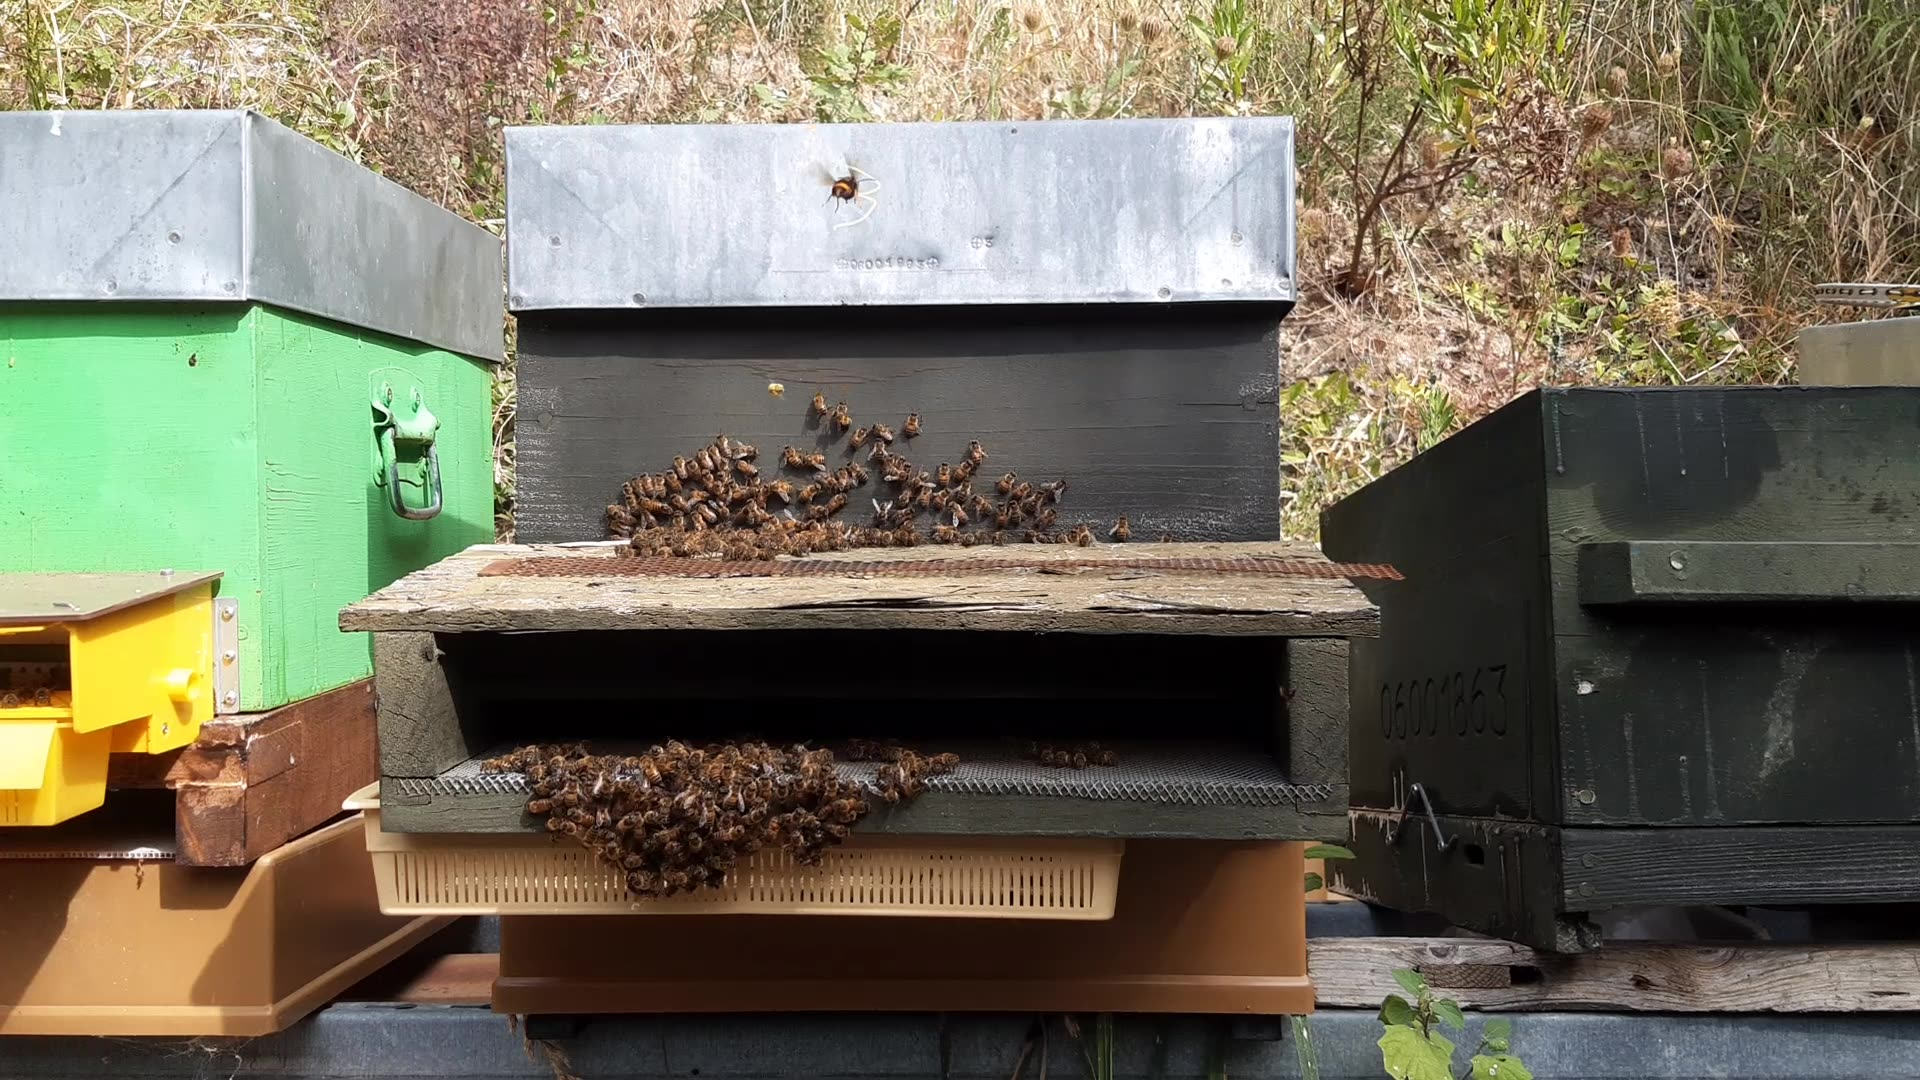bee: (647, 822, 731, 898), (820, 491, 920, 549), (522, 796, 588, 866), (489, 742, 575, 795), (616, 731, 715, 775), (872, 745, 957, 796), (596, 502, 670, 553), (1036, 492, 1110, 542), (731, 454, 795, 505), (944, 451, 1002, 506), (644, 463, 704, 513), (832, 419, 887, 465), (779, 406, 833, 450), (771, 373, 828, 407)
